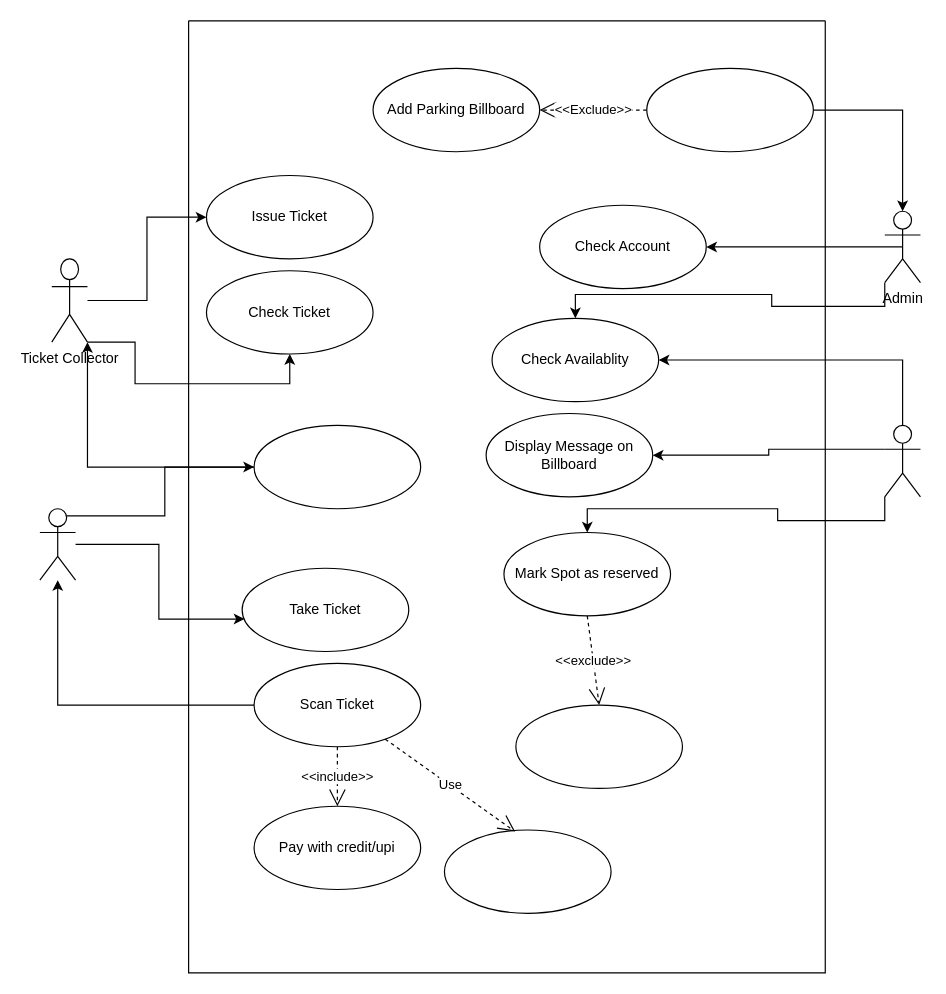
Some shapes in this 946 by 994 pixel diagram are drawn without their labels. Each missing label, with the centre of its shape:
Add Parking Spot/Floor: the point at 729,109
Cash Payment: the point at 337,466
Customer: the point at 57,544
Guide User to Spot: the point at 598,746
Invalid Ticket: the point at 527,871
System: the point at 902,460
